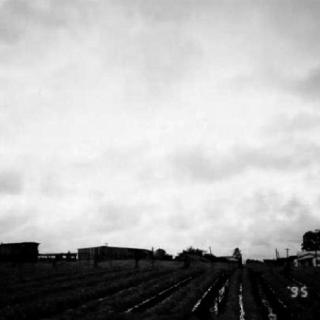Nimbostratus: (0, 0, 320, 258)
